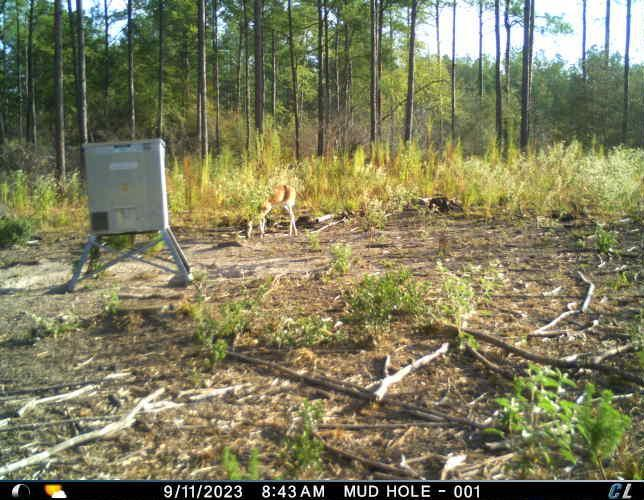Deer: (241, 183, 299, 239)
